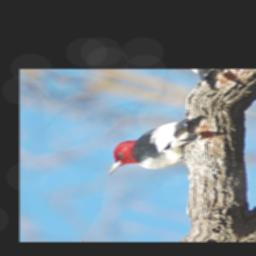Woodpecker: (103, 104, 209, 195)
